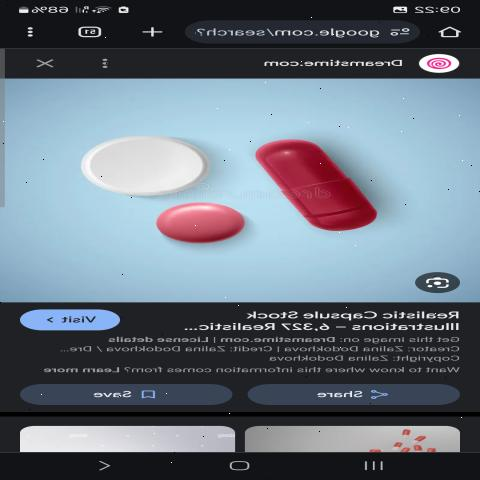Pill: (255, 114, 398, 246), (53, 124, 213, 202), (124, 197, 258, 249)
